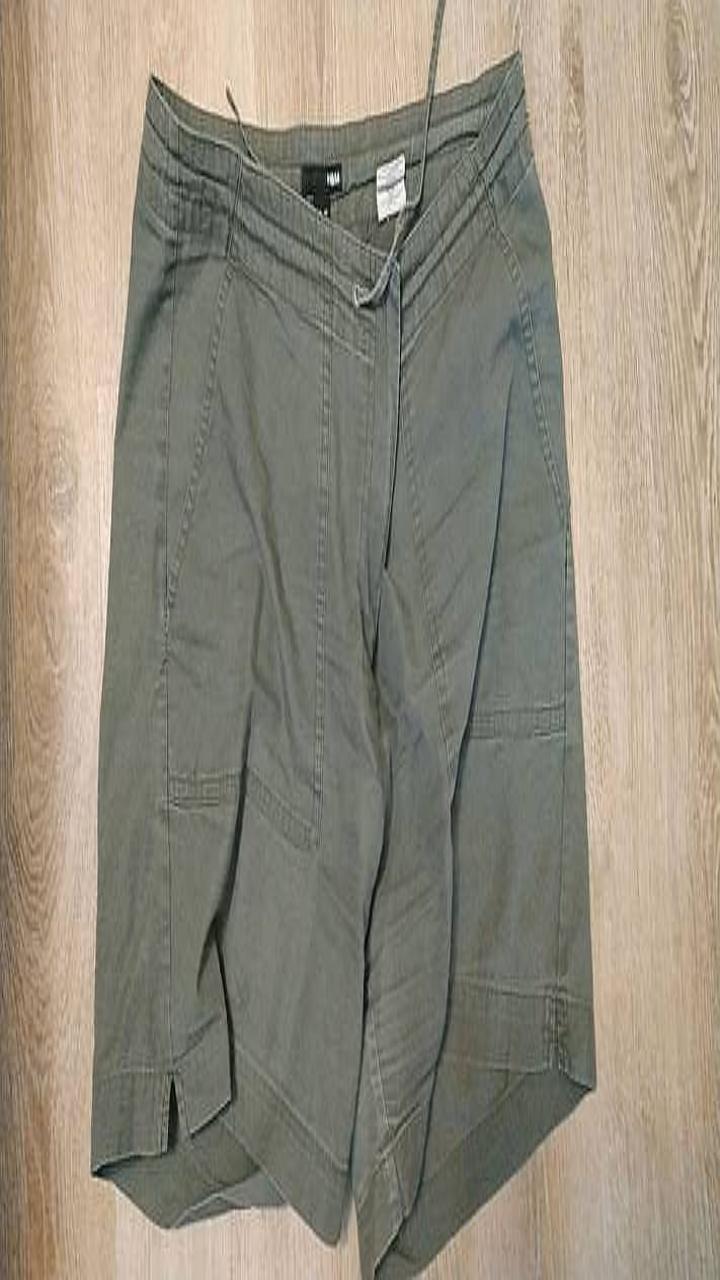Shorts: (91, 52, 595, 1279)
